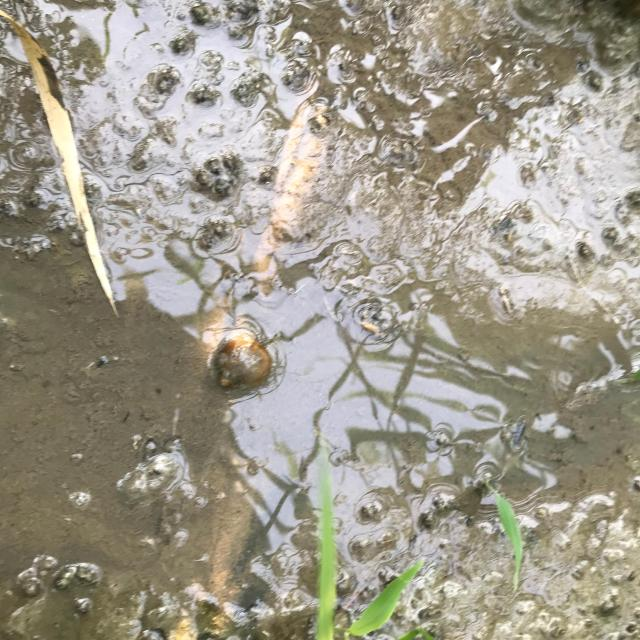rice bug -hama padi-: (197, 312, 297, 408)
